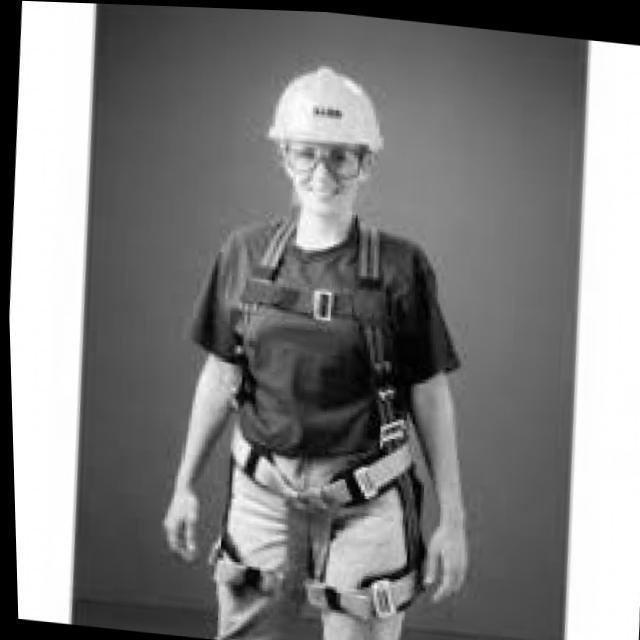Arnes_seguridad: (225, 216, 418, 492)
